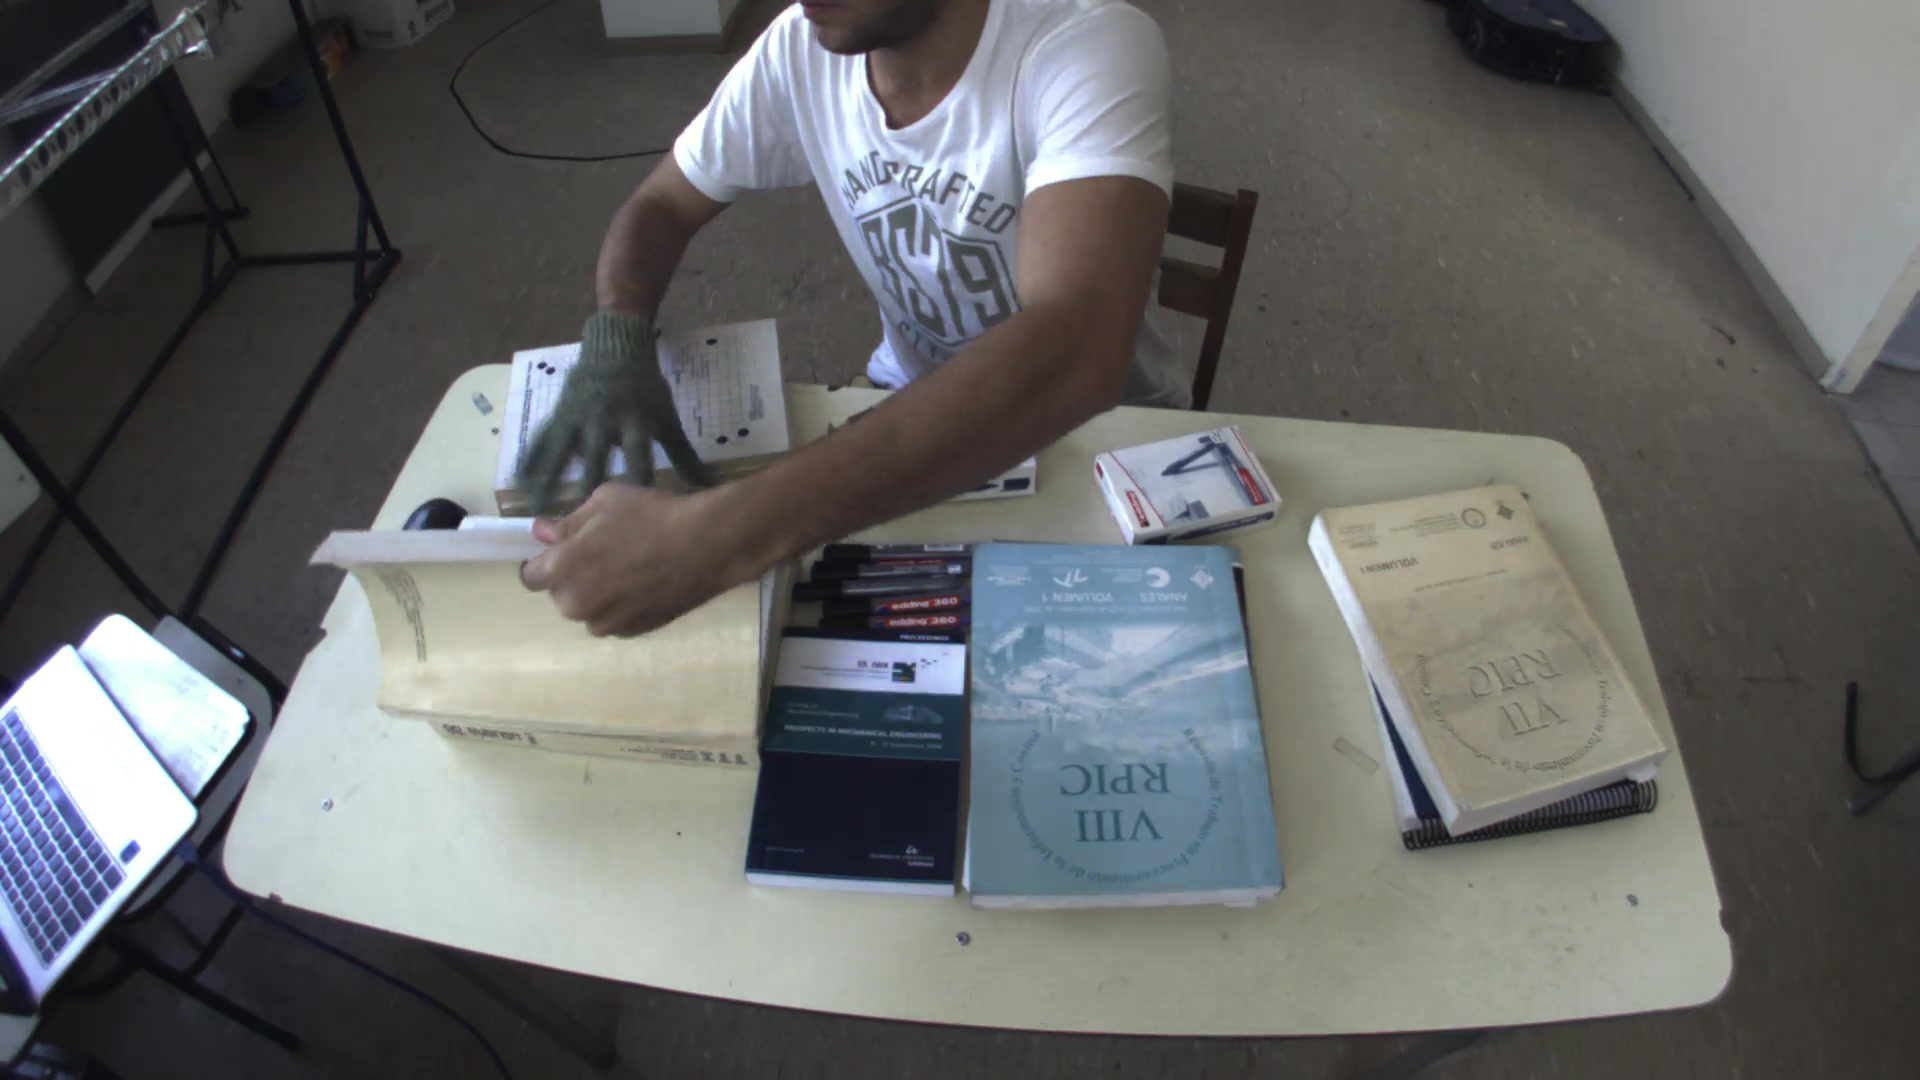hand: (520, 298, 704, 492), (525, 477, 696, 640)
